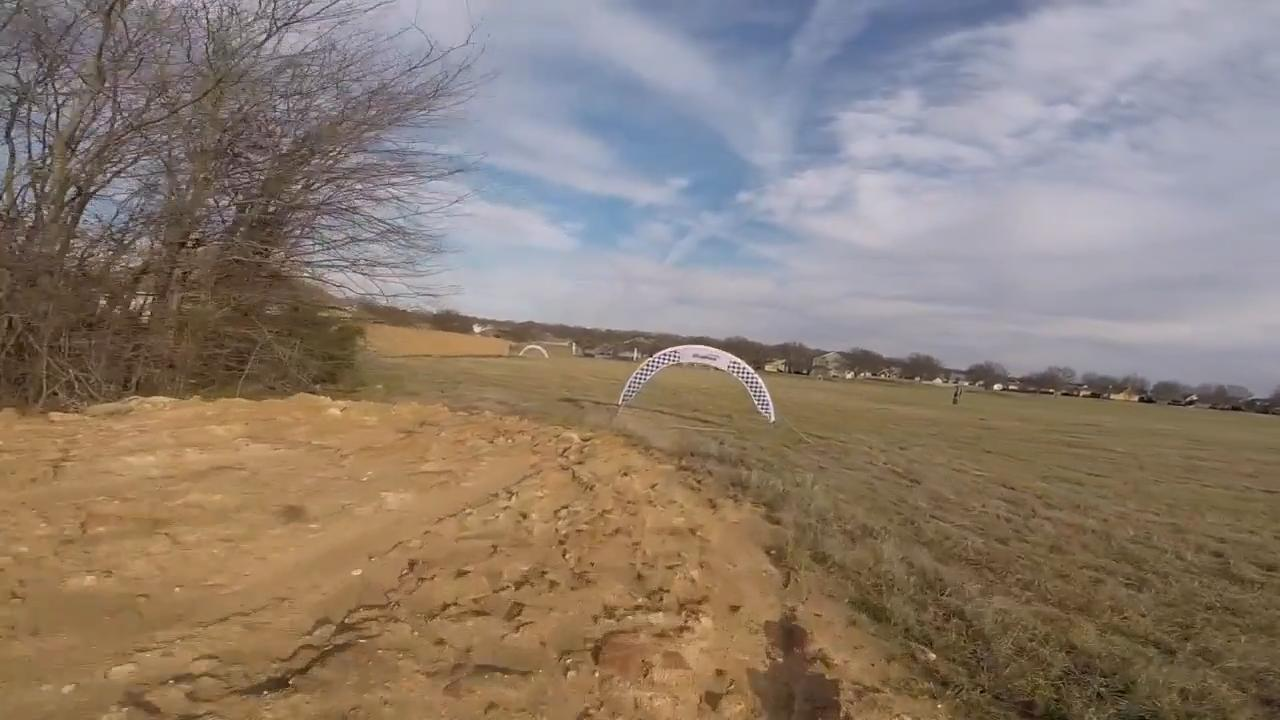gate: (613, 345, 779, 426)
